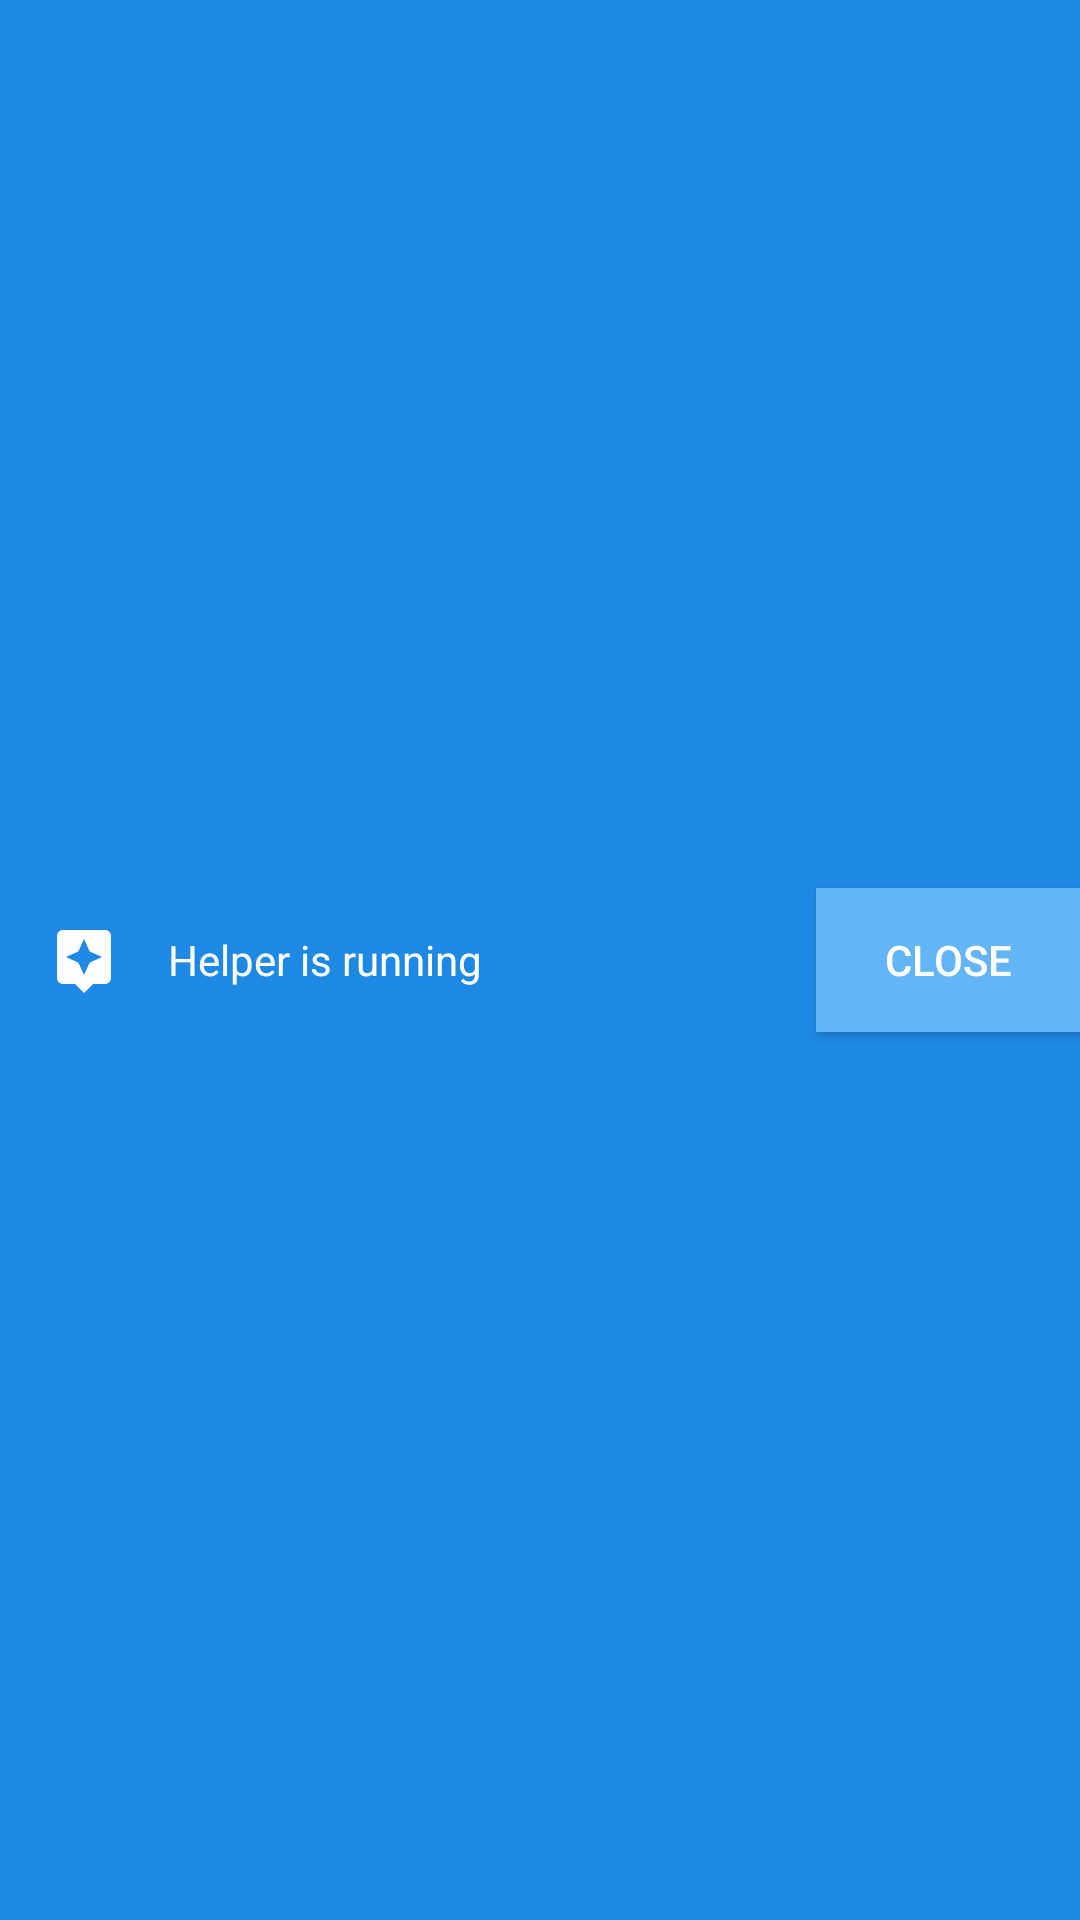

Named icons in this screenshot (1080 x 1920) and their centers, [x,y]:
assistant: [84,961]
